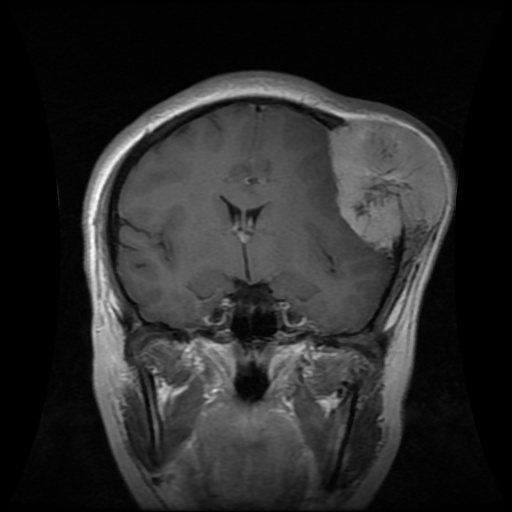meningioma: (329, 119, 446, 249)
